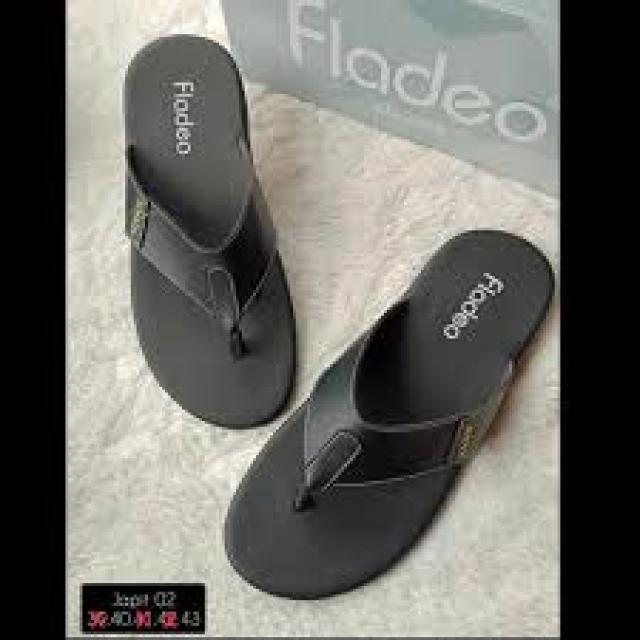Sandals: (73, 27, 592, 620)
